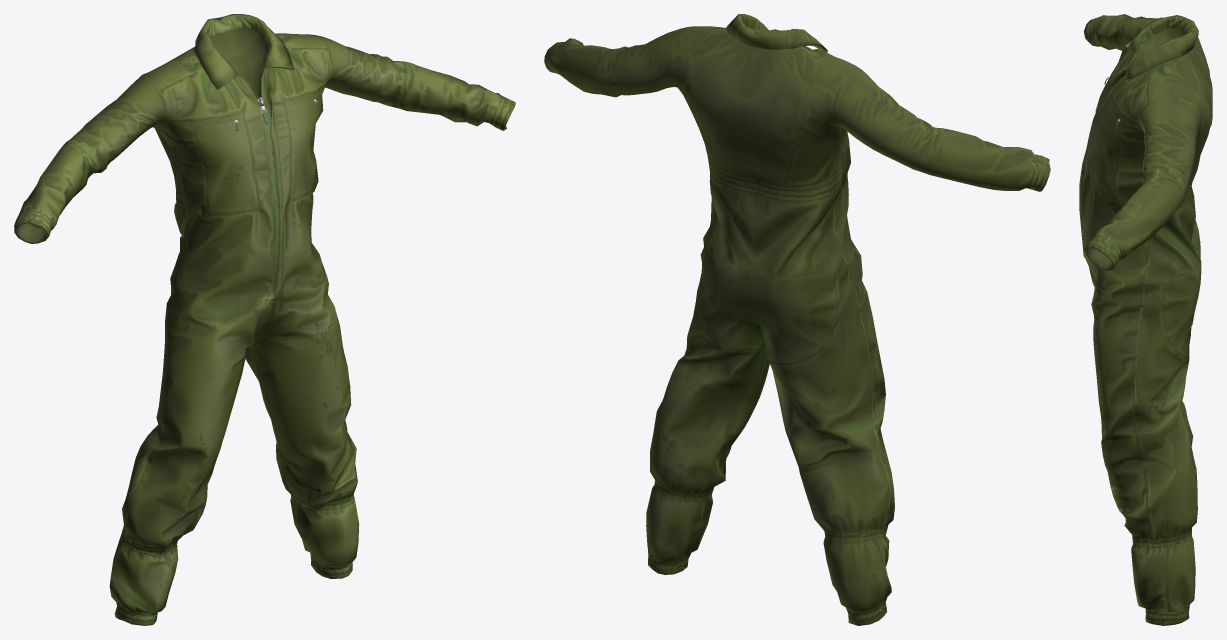
File: jumpsuit_low_poly.glb
3 renders of one model, left to right at view 1: azimuth 30°, elevation 25°; view 2: azimuth 150°, elevation 25°; view 3: azimuth 270°, elevation 25°, orthographic. The views are drawn at different scales.
Parts seen in each view (by area): view 1: default1224233_Material #2_0; view 2: default1224233_Material #2_0; view 3: default1224233_Material #2_0.
Boxes of the visible parts, box(x1,y1,x2,y2) form: default1224233_Material #2_0: box(14, 14, 515, 625); default1224233_Material #2_0: box(544, 14, 1050, 625); default1224233_Material #2_0: box(1079, 14, 1212, 625).
Size of the model in its own units: 1.5 by 1.64 by 0.3587.
4 materials, 4 textured.
